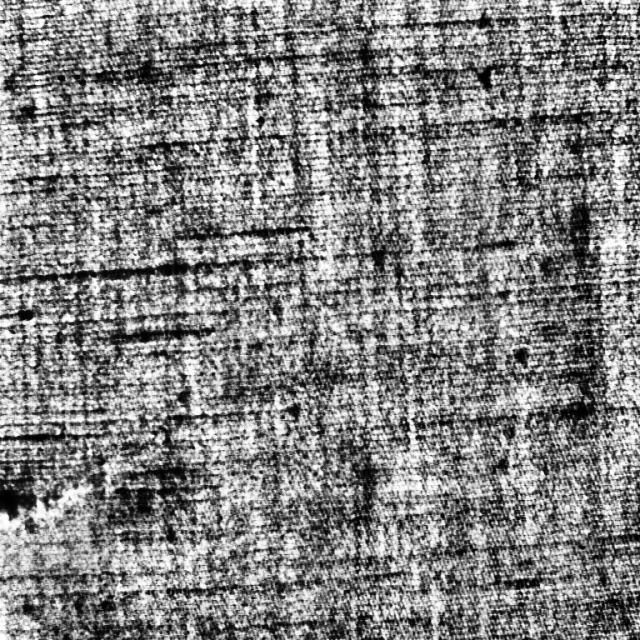Stitch: (0, 447, 111, 545)
